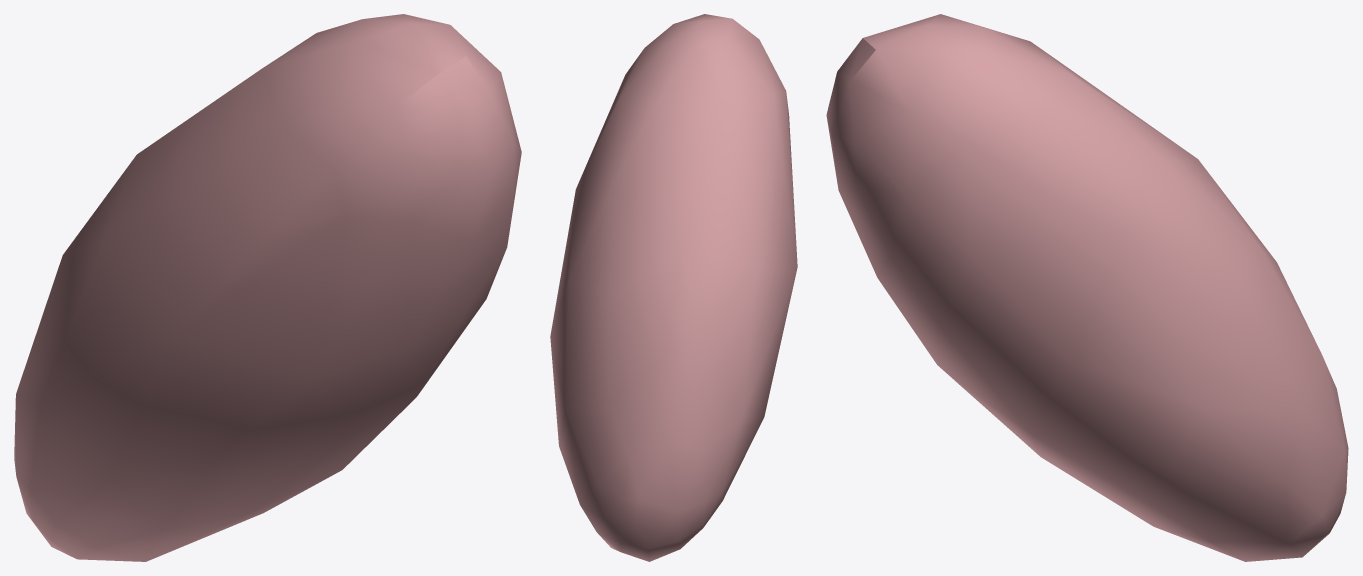
The model's file is fma55118_fj2773.glb.
3 views of the same model, side by side, from view 1: azimuth 30°, elevation 25°; view 2: azimuth 150°, elevation 25°; view 3: azimuth 270°, elevation 25° (orthographic). The views are drawn at different scales.
Visible parts, largest first — view 1: FMA55118_FJ2773; view 2: FMA55118_FJ2773; view 3: FMA55118_FJ2773.
Part boxes in pixels (box(x1,y1,x2,y2)): FMA55118_FJ2773: box(14, 14, 521, 561); FMA55118_FJ2773: box(550, 14, 797, 561); FMA55118_FJ2773: box(826, 14, 1348, 561).
Size of the model in its own units: 0.00175 by 0.00326 by 0.00268.
